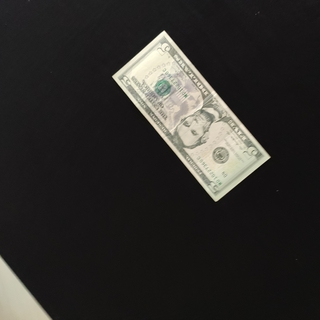5USDFront: (111, 30, 271, 202)
